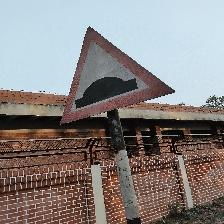Speed-breaker: (59, 26, 176, 124)
